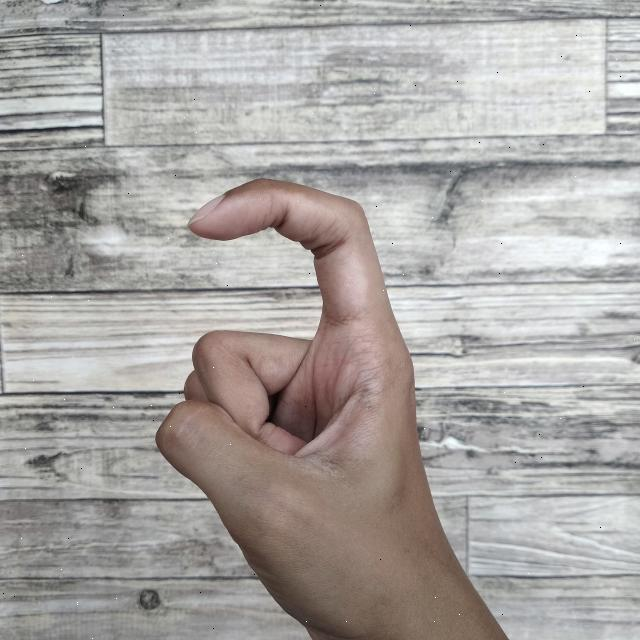X: (145, 170, 511, 640)
